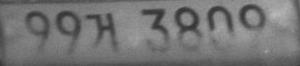0: (206, 5, 236, 53)
3: (141, 7, 170, 52)
8: (173, 5, 203, 51)
9: (23, 10, 51, 56), (54, 9, 81, 55), (239, 2, 266, 48)
거: (85, 11, 119, 51)
